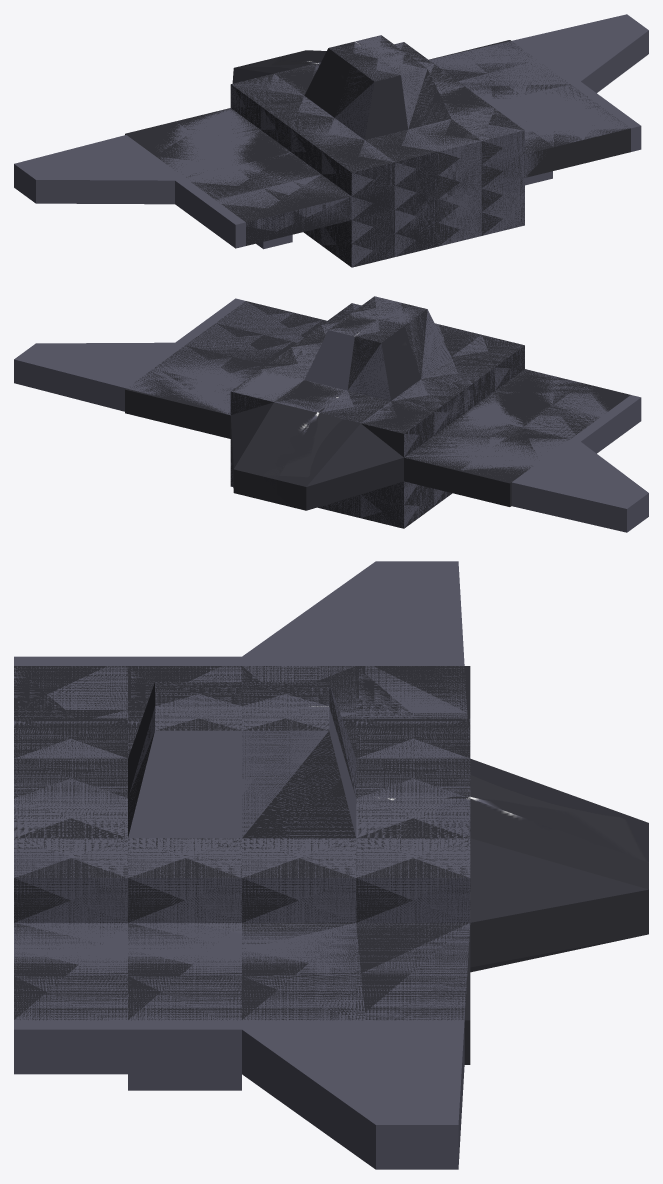
The model's file is player.obj.
3 views of the same model, one above another, from view 1: azimuth 30°, elevation 25°; view 2: azimuth 150°, elevation 25°; view 3: azimuth 270°, elevation 25° (orthographic). The views are drawn at different scales.
Parts seen in each view (by area): view 1: Cube.001; view 2: Cube.001; view 3: Cube.001.
Boxes of the visible parts, bbox=[...] form: Cube.001: bbox=[14, 14, 648, 267]; Cube.001: bbox=[14, 296, 648, 532]; Cube.001: bbox=[14, 561, 648, 1169].
Size of the model in its own units: 5.85 by 1.31 by 2.78.
Materials: 1 (1 with a texture image).
